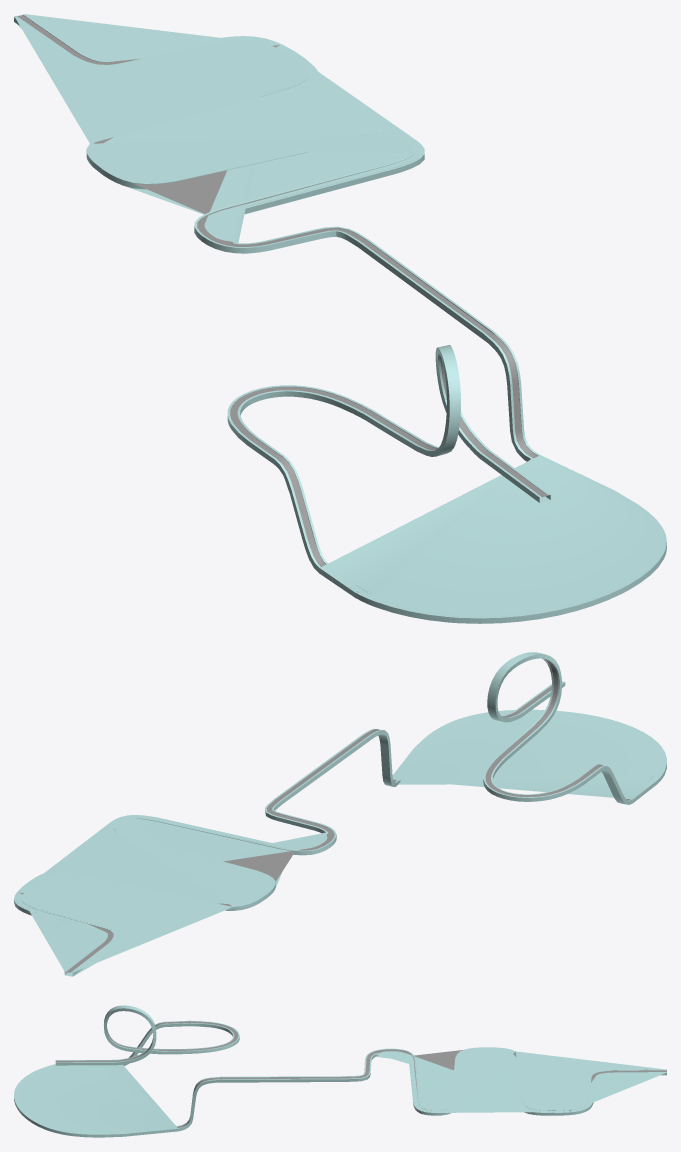
The model's file is road1.fbx.
3 views of the same model, one above another, from view 1: azimuth 30°, elevation 25°; view 2: azimuth 150°, elevation 25°; view 3: azimuth 270°, elevation 25° (orthographic). The views are drawn at different scales.
Visible parts, largest first — view 1: Cube.024; view 2: Cube.024; view 3: Cube.024.
Boxes of the visible parts, box(x1,y1,x2,y2) form: Cube.024: box(14, 14, 666, 623); Cube.024: box(14, 652, 666, 976); Cube.024: box(14, 1005, 666, 1137).
Bounding box in the file's own units: 8196 × 3393 × 22117.
